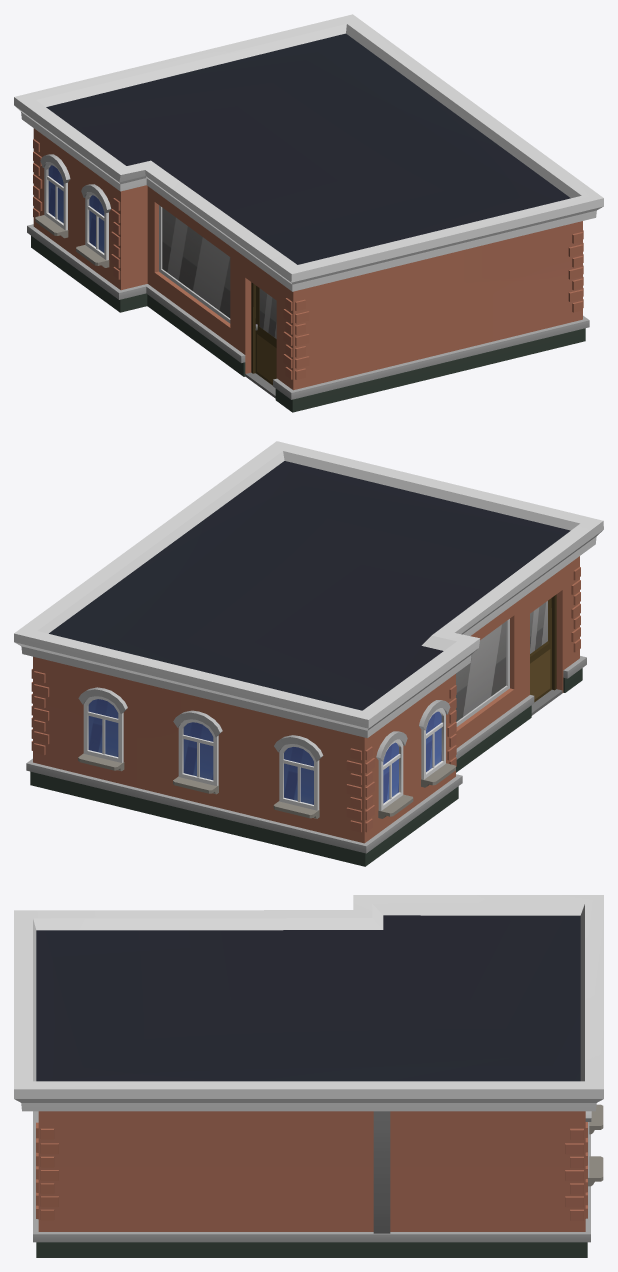
File: Building_1_1_R.fbx
3 renders of one model, top to bottom at view 1: azimuth 30°, elevation 25°; view 2: azimuth 150°, elevation 25°; view 3: azimuth 270°, elevation 25°, orthographic. The views are drawn at different scales.
Visible parts, largest first — view 1: Building_1_1_R; view 2: Building_1_1_R; view 3: Building_1_1_R.
Part boxes in pixels (x1,y1,x2,y2): Building_1_1_R: (14,14,603,412); Building_1_1_R: (14,441,603,866); Building_1_1_R: (14,895,603,1257).
Size of the model in its own units: 822 by 341 by 1051.
